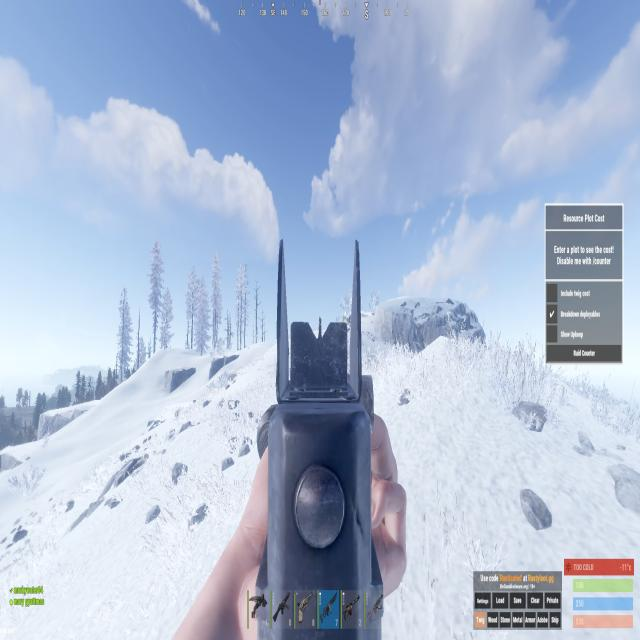Player: (319, 316, 322, 332)
